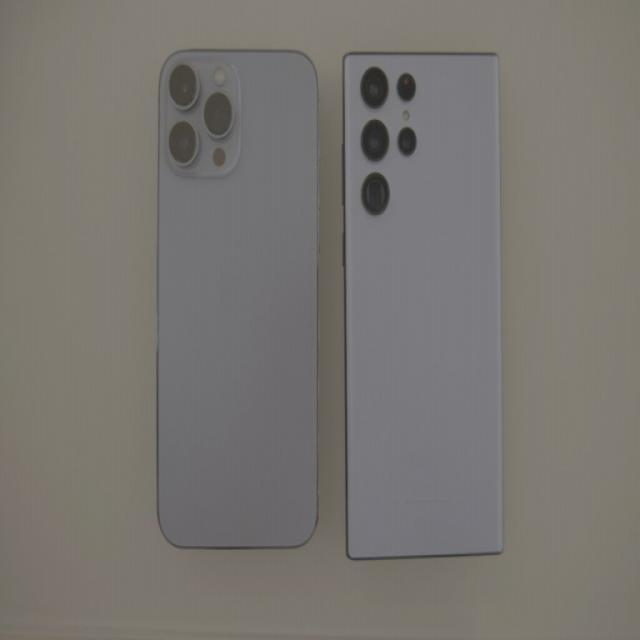phone: (344, 52, 504, 560), (158, 49, 320, 548)
